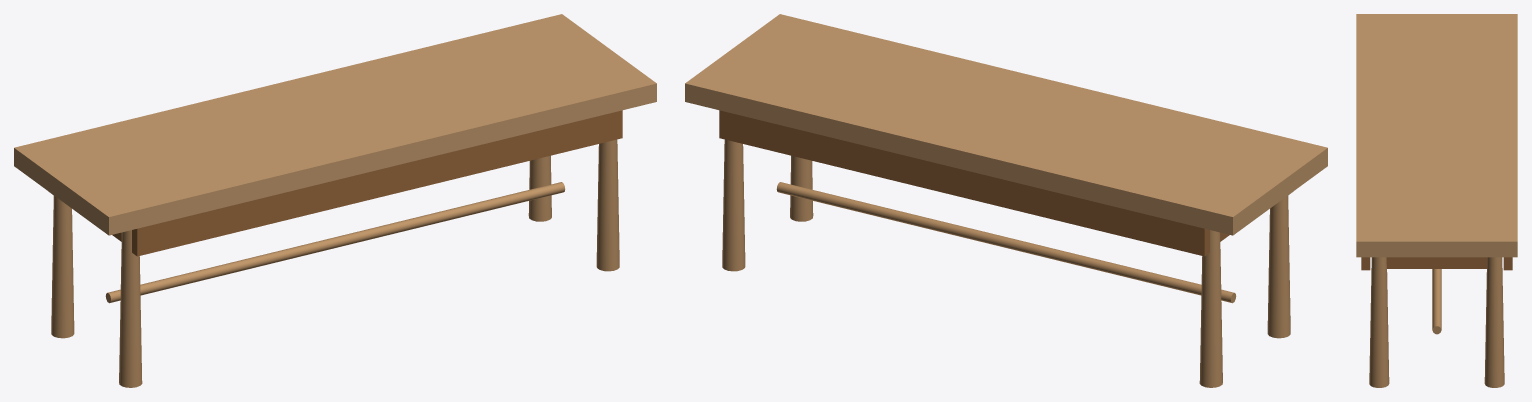
File: bench.glb
The picture shows the model from 3 angles, left to right: view 1: azimuth 30°, elevation 25°; view 2: azimuth 150°, elevation 25°; view 3: azimuth 270°, elevation 25°; orthographic projection. The views are drawn at different scales.
Parts seen in each view (by area): view 1: material-0-top, material-1-leg, material-2-trim; view 2: material-0-top, material-1-leg, material-2-trim; view 3: material-0-top, material-1-leg, material-2-trim.
Boxes of the visible parts, left/top/right/bottom form: material-0-top: left=14, top=14, right=656, bottom=235; material-1-leg: left=51, top=139, right=619, bottom=387; material-2-trim: left=49, top=110, right=622, bottom=256; material-0-top: left=685, top=14, right=1327, bottom=235; material-1-leg: left=722, top=139, right=1290, bottom=387; material-2-trim: left=719, top=110, right=1292, bottom=256; material-0-top: left=1356, top=14, right=1517, bottom=257; material-1-leg: left=1369, top=257, right=1504, bottom=387; material-2-trim: left=1361, top=257, right=1512, bottom=270.
Size of the model in its own units: 1.4 by 0.45 by 0.42.
